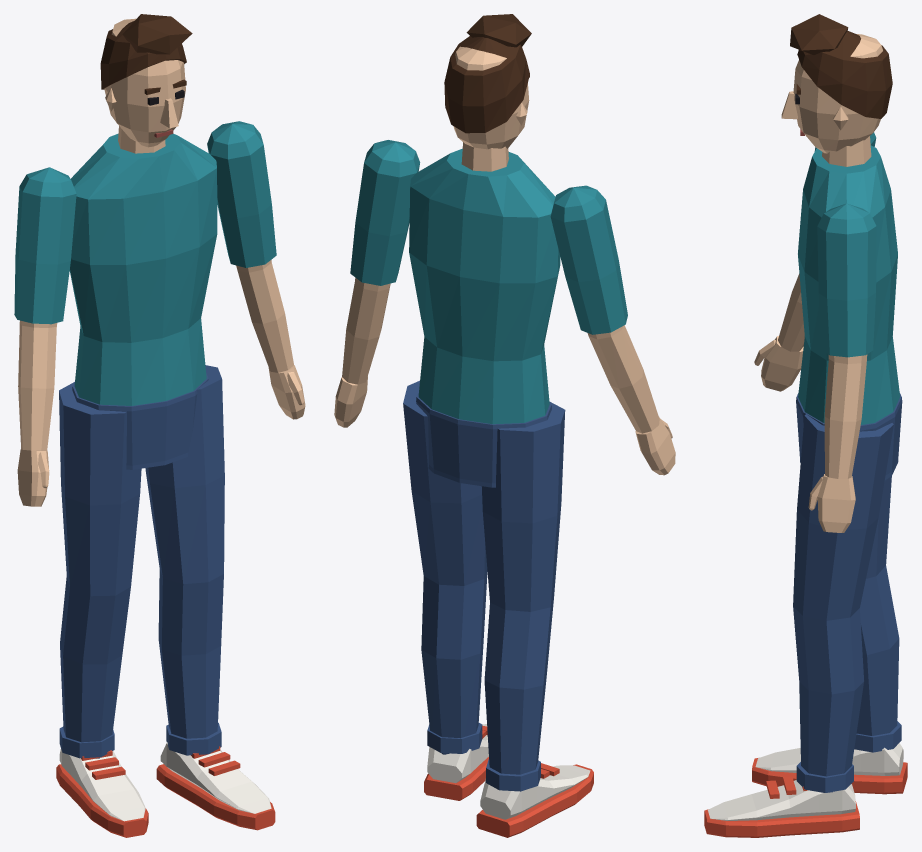
Rendered from HUMAN_01.obj.
3 views of the same model, side by side, from view 1: azimuth 30°, elevation 25°; view 2: azimuth 150°, elevation 25°; view 3: azimuth 270°, elevation 25° (orthographic).
Parts seen in each view (by area): view 1: torso, legwear_R, legwear_L, sleeve_R, sleeve_L, shoe_L, shoe_R, pelvis_bottom, head, arm_R, hair, arm_L (+3 smaller); view 2: torso, legwear_R, legwear_L, sleeve_R, sleeve_L, hair, shoe_R, pelvis_bottom, arm_R, arm_L, shoe_L, head (+3 smaller); view 3: legwear_L, torso, sleeve_L, legwear_R, shoe_L, hair, arm_L, head, shoe_R, hand_L, hand_R, pelvis_bottom (+3 smaller).
Boxes of the visible parts, left/top/right/bottom form: torso: left=69, top=133, right=217, bottom=405; legwear_R: left=59, top=382, right=141, bottom=758; legwear_L: left=145, top=365, right=224, bottom=755; sleeve_R: left=14, top=167, right=76, bottom=324; sleeve_L: left=207, top=121, right=276, bottom=267; shoe_L: left=156, top=742, right=275, bottom=830; shoe_R: left=56, top=749, right=148, bottom=837; pelvis_bottom: left=72, top=373, right=208, bottom=469; head: left=104, top=18, right=185, bottom=147; arm_R: left=18, top=320, right=57, bottom=450; hair: left=100, top=14, right=192, bottom=89; arm_L: left=236, top=260, right=293, bottom=372; torso: left=409, top=148, right=560, bottom=424; legwear_R: left=481, top=402, right=565, bottom=791; legwear_L: left=403, top=380, right=487, bottom=754; sleeve_R: left=550, top=185, right=627, bottom=334; sleeve_L: left=350, top=140, right=420, bottom=285; hair: left=444, top=14, right=531, bottom=133; shoe_R: left=476, top=763, right=593, bottom=837; pelvis_bottom: left=416, top=391, right=551, bottom=487; arm_R: left=587, top=325, right=659, bottom=433; arm_L: left=342, top=278, right=390, bottom=384; shoe_L: left=424, top=724, right=488, bottom=800; head: left=453, top=46, right=529, bottom=149; legwear_L: left=793, top=414, right=893, bottom=792; torso: left=798, top=145, right=900, bottom=424; sleeve_L: left=817, top=203, right=876, bottom=357; legwear_R: left=854, top=476, right=901, bottom=752; shoe_L: left=704, top=776, right=859, bottom=837; hair: left=790, top=14, right=892, bottom=118; arm_L: left=824, top=354, right=867, bottom=478; head: left=793, top=34, right=882, bottom=153; shoe_R: left=752, top=743, right=907, bottom=794; hand_L: left=808, top=474, right=855, bottom=532; hand_R: left=754, top=336, right=803, bottom=391; pelvis_bottom: left=796, top=393, right=902, bottom=479.
Size of the model in its own units: 0.7435 by 1.83 by 0.4309.
